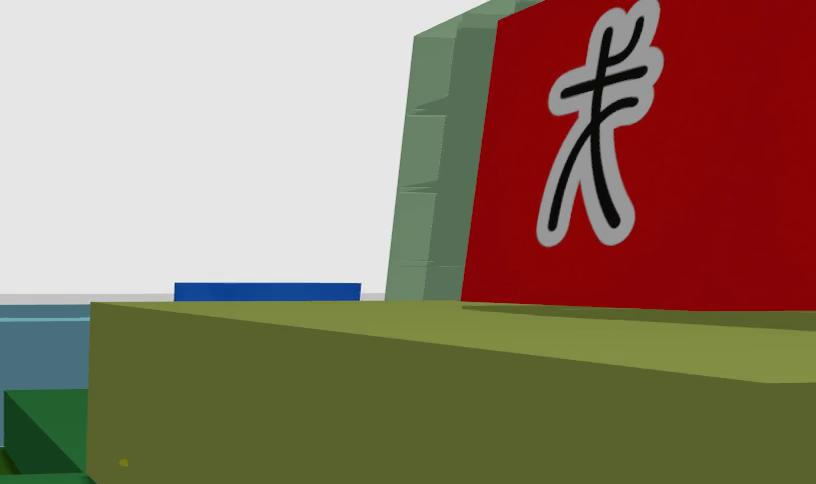KFS_FAKE: (460, 0, 815, 309), (535, 0, 663, 247)
